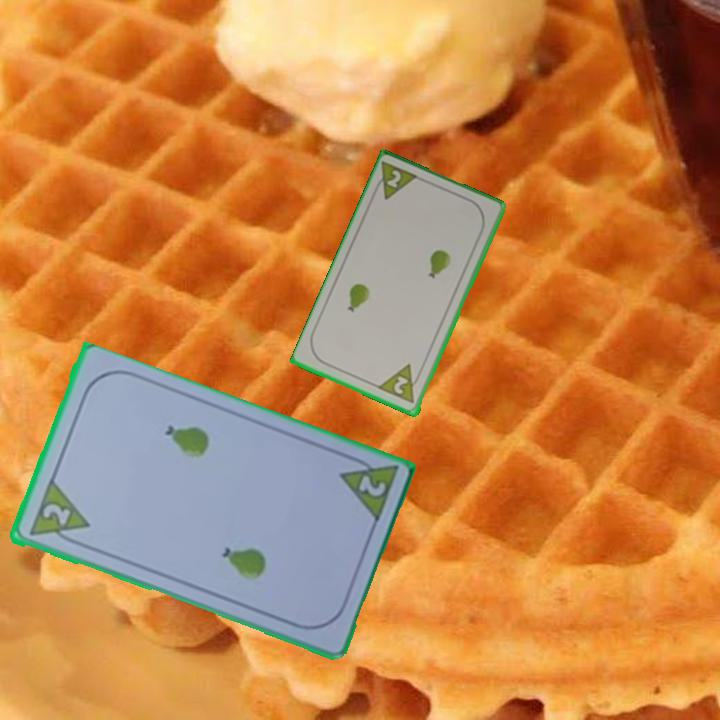2p: (369, 158, 423, 203), (376, 361, 426, 407), (354, 471, 389, 501), (38, 500, 73, 529)
